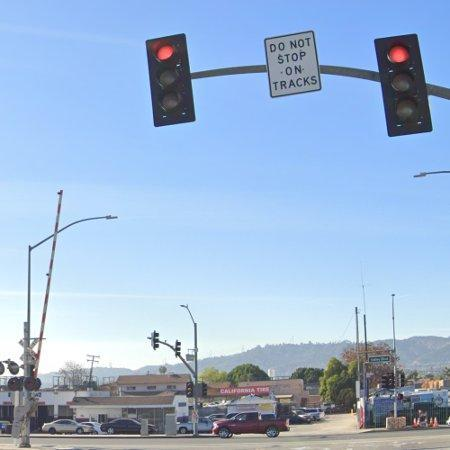traffic lights: (373, 32, 436, 138), (144, 35, 194, 128), (270, 26, 329, 101)
